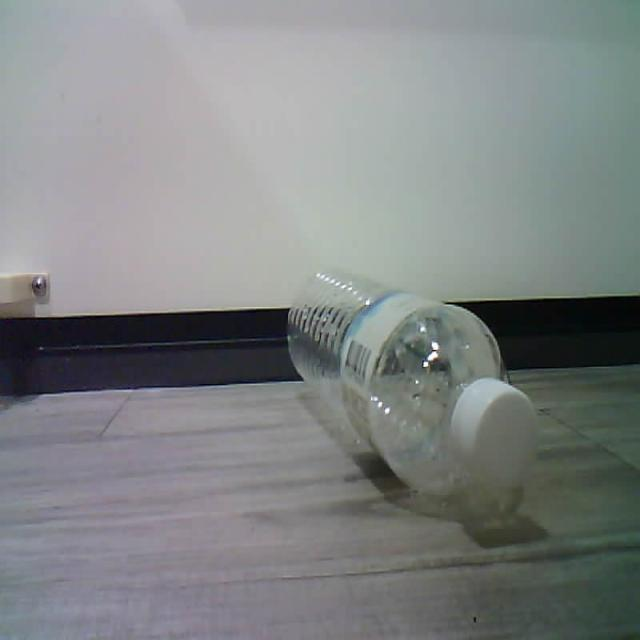bottle: (288, 270, 536, 518)
